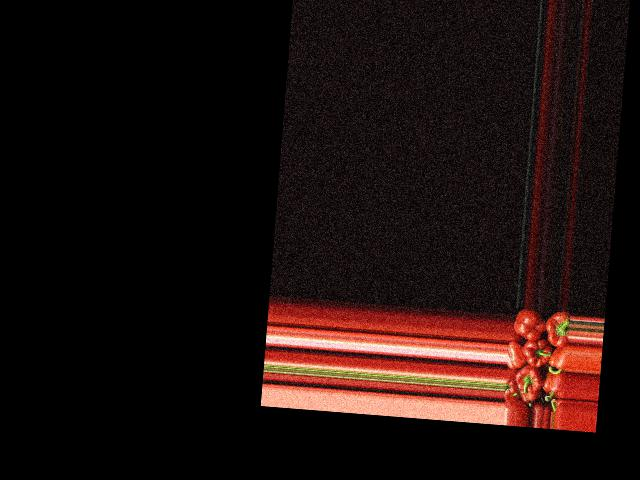bell_pepper: (507, 340, 525, 369)
